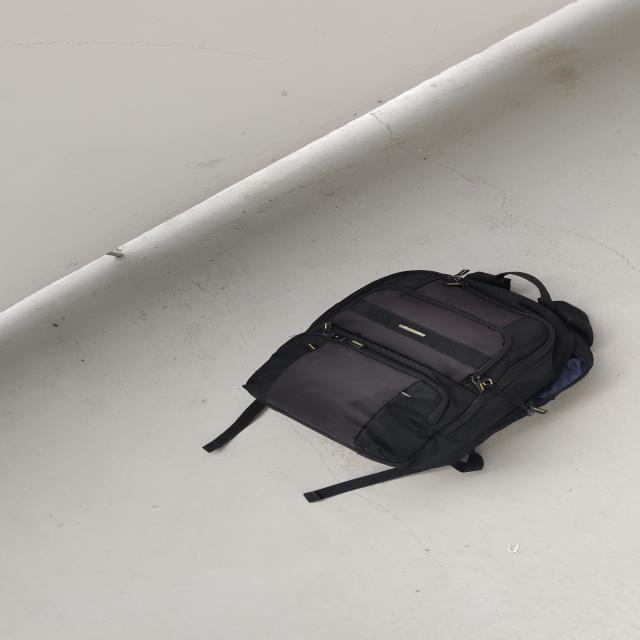backpack: (236, 261, 606, 481)
